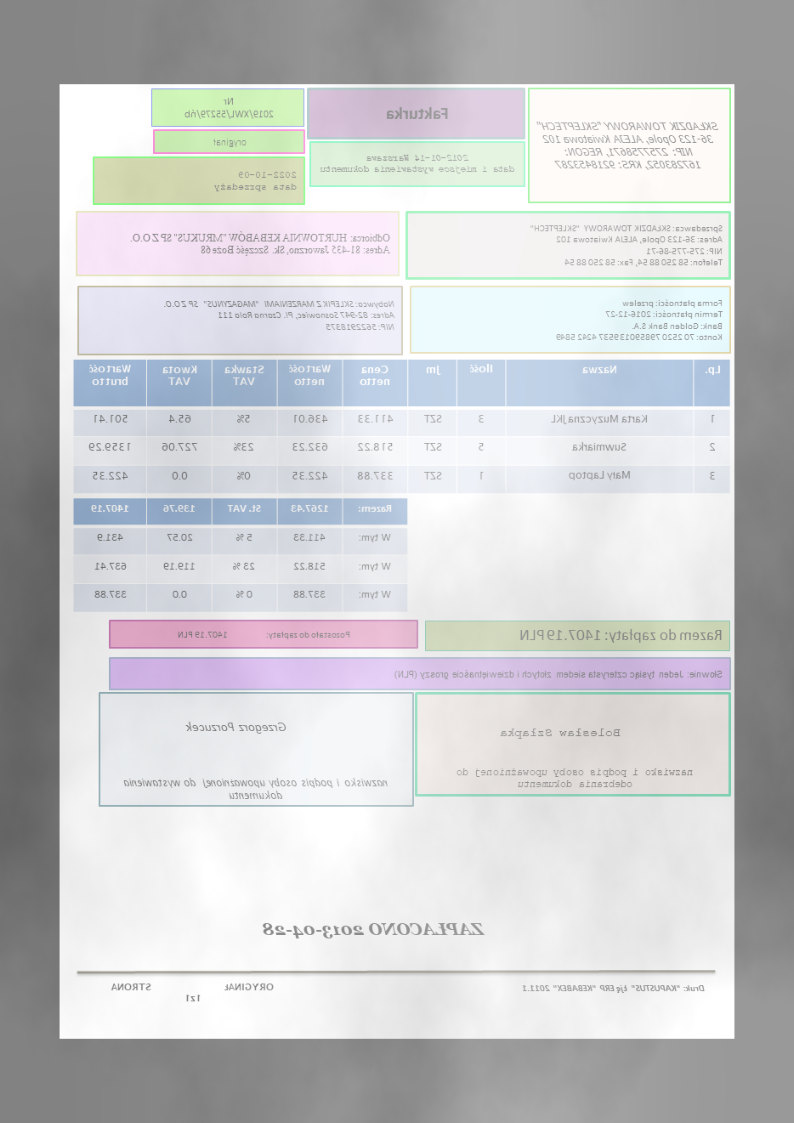Table: (73, 357, 732, 496), (71, 495, 409, 614)
TextBox: (534, 118, 721, 171), (528, 220, 725, 269), (162, 297, 397, 334), (554, 295, 726, 343), (128, 228, 394, 257), (122, 775, 390, 803), (454, 765, 696, 789), (260, 918, 488, 943), (393, 666, 725, 681), (318, 151, 517, 176), (107, 978, 277, 1006), (519, 625, 726, 644), (520, 980, 707, 995), (175, 627, 354, 642), (184, 93, 276, 122), (212, 168, 300, 195), (500, 723, 624, 742), (184, 718, 289, 734), (384, 104, 452, 122), (211, 136, 249, 149)
